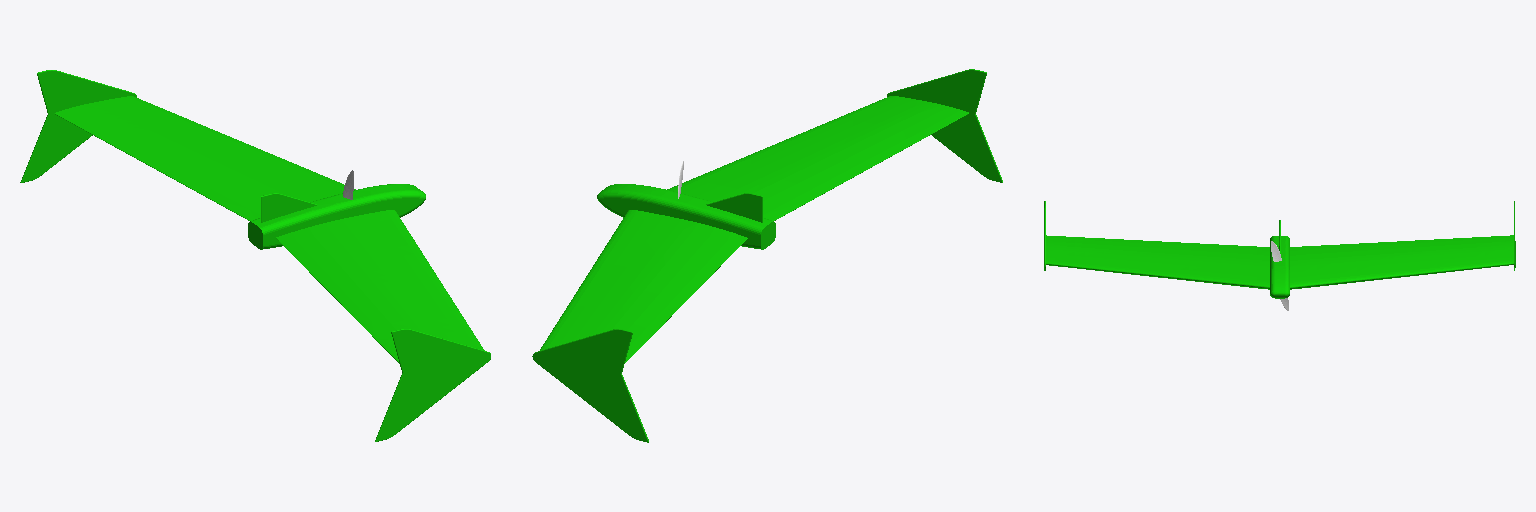
The robot description file, URDF, robot "plane":
<?xml version="1.0"?>

<robot name="plane">
	<link name="base_link">
		<visual>
			<origin rpy="-1.57 0.0 -1.57"/>
			<geometry>
				<mesh filename="package://last_letter/data/parameters/aircraft/tut_airplane/urdf/tut_airplane.stl" scale="0.01 0.01 0.01"/>
			</geometry>
			<material name="greenSprite">
				<color rgba="0.1 0.84 0.06 1"/>
			</material>
		</visual>
	</link>

	<link name="propeller_1">
		<visual>
			<geometry>
				<mesh filename="package://last_letter/data/parameters/aircraft/tut_airplane/urdf/10x4.7.stl"/>
			</geometry>
			<material name="whitePurity">
				<color rgba="1.0 1.0 1.0 1.0"/>
			</material>
		</visual>
	</link>

	<joint name="motor_mount" type="floating">
		<parent link="base_link"/>
		<child link="propeller_1"/>
	</joint>

</robot>

--- What the picture shows (computed from the rendered views, not written in the file) ---
3 views of the same robot in one strip: view 1: azimuth 30°, elevation 25°; view 2: azimuth 150°, elevation 25°; view 3: azimuth 270°, elevation 25° (orthographic).
Model plane with 2 links and 1 joints (1 floating), rooted at base_link, posed every joint at zero.
Links seen in each view (by area): view 1: base_link; view 2: base_link; view 3: base_link.
Boxes of the visible links, x1,y1,x2,y2 form: base_link: (20,70,490,441); base_link: (532,69,1002,442); base_link: (1044,201,1515,298).
Size in the robot's own frame: 0.5484 by 1.5 by 0.2585 metres.
2 mesh visuals loaded from 2 distinct referenced files (2 binary STL).